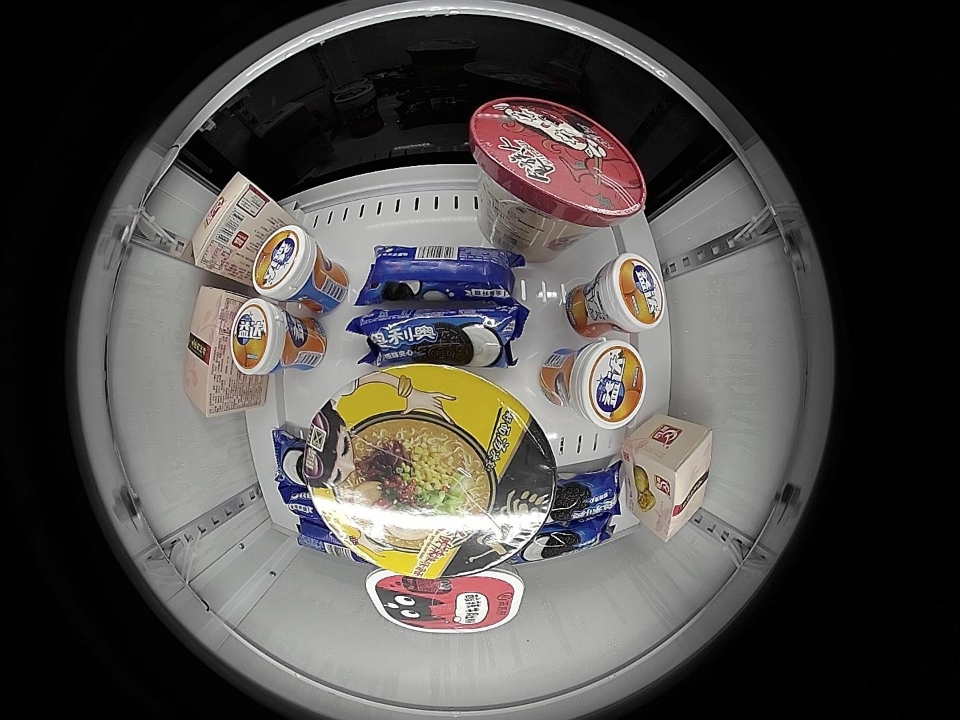aoliao: (356, 305, 528, 366), (364, 244, 513, 302), (547, 469, 620, 523), (529, 517, 616, 562), (273, 428, 336, 487), (296, 518, 365, 561), (280, 483, 338, 517)
niudufen: (367, 567, 525, 632)
rousongbing: (638, 422, 713, 542), (190, 172, 266, 277), (187, 287, 243, 419)
suanlafen: (470, 98, 646, 228)
tangdaren2: (302, 365, 556, 581)
yida: (564, 338, 646, 429), (593, 253, 666, 333), (252, 225, 320, 301), (230, 298, 289, 374)
